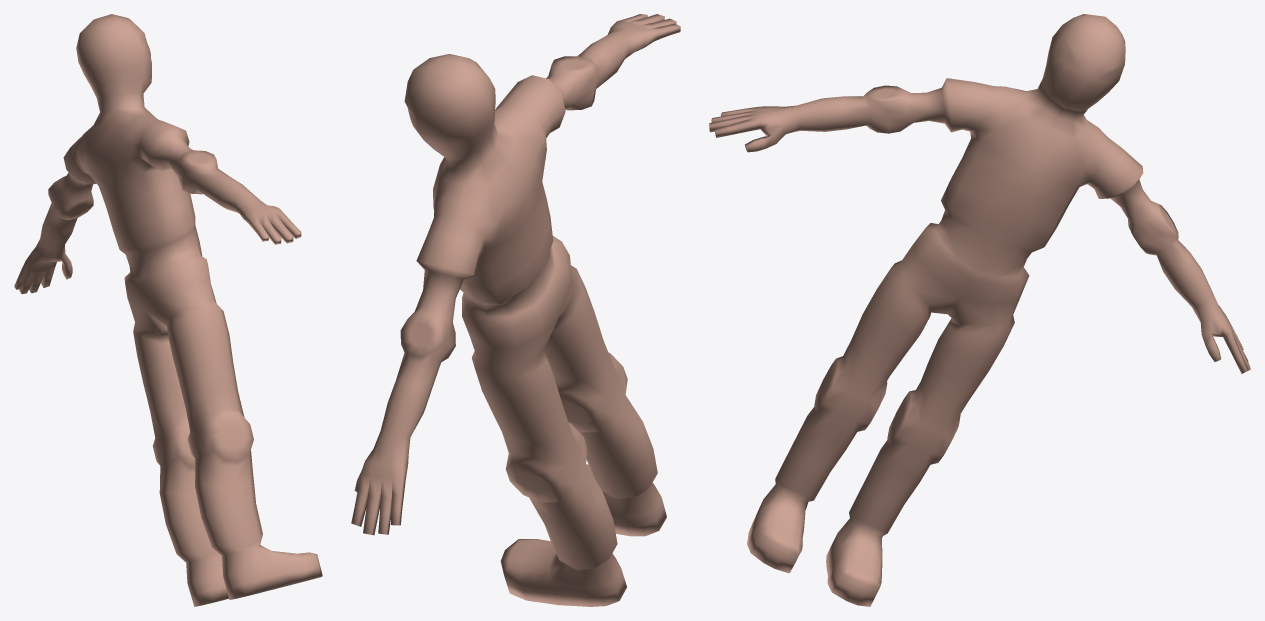
The model's file is DOOL.fbx.
The picture shows the model from 3 angles, left to right: view 1: azimuth 30°, elevation 25°; view 2: azimuth 150°, elevation 25°; view 3: azimuth 270°, elevation 25°; orthographic projection. The views are drawn at different scales.
Parts seen in each view (by area): view 1: Dool; view 2: Dool; view 3: Dool.
Boxes of the visible parts, x1=… form: Dool: x1=14, y1=14, x2=322, y2=606; Dool: x1=351, y1=14, x2=680, y2=606; Dool: x1=709, y1=14, x2=1250, y2=606.
Size of the model in its own units: 0.0453 by 0.2198 by 0.1923.
